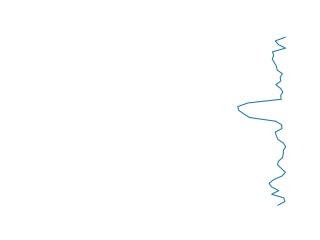interdistributaryEstuary: (231, 36, 296, 206)
